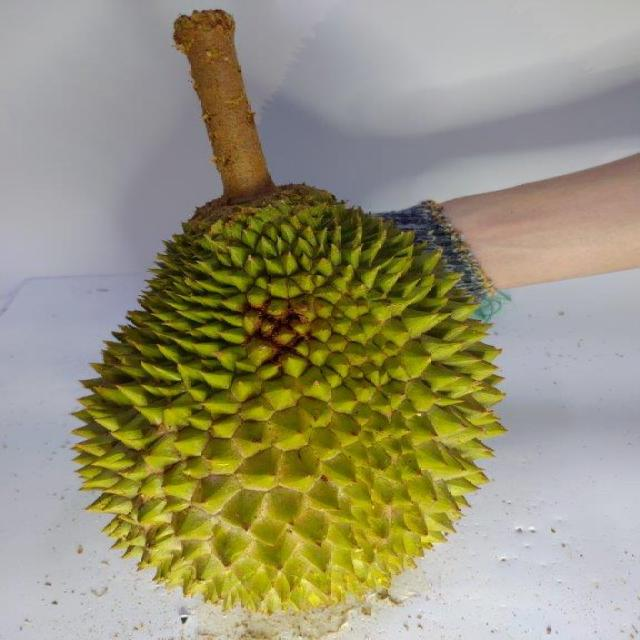immature: (66, 178, 509, 606)
